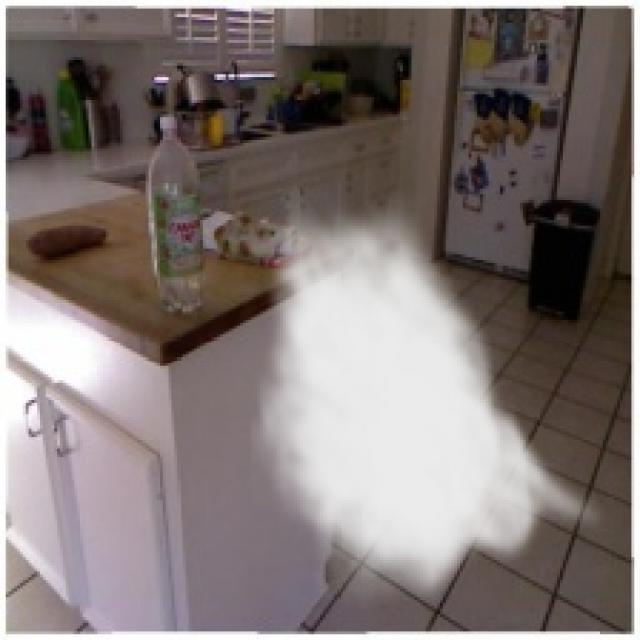Smoke: (248, 186, 608, 612)
